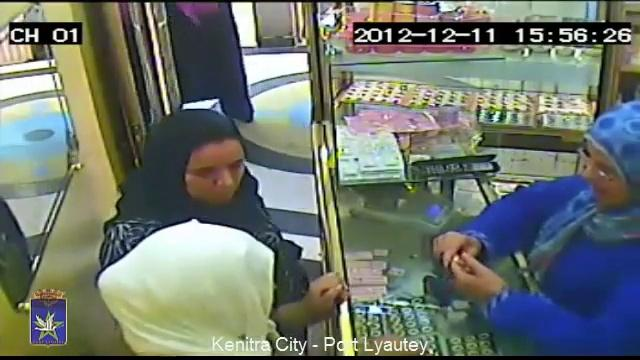Product: (438, 243, 464, 274)
Product-Picked: (382, 81, 640, 353)
Regular: (105, 205, 323, 360), (149, 0, 285, 128), (151, 120, 255, 220)
